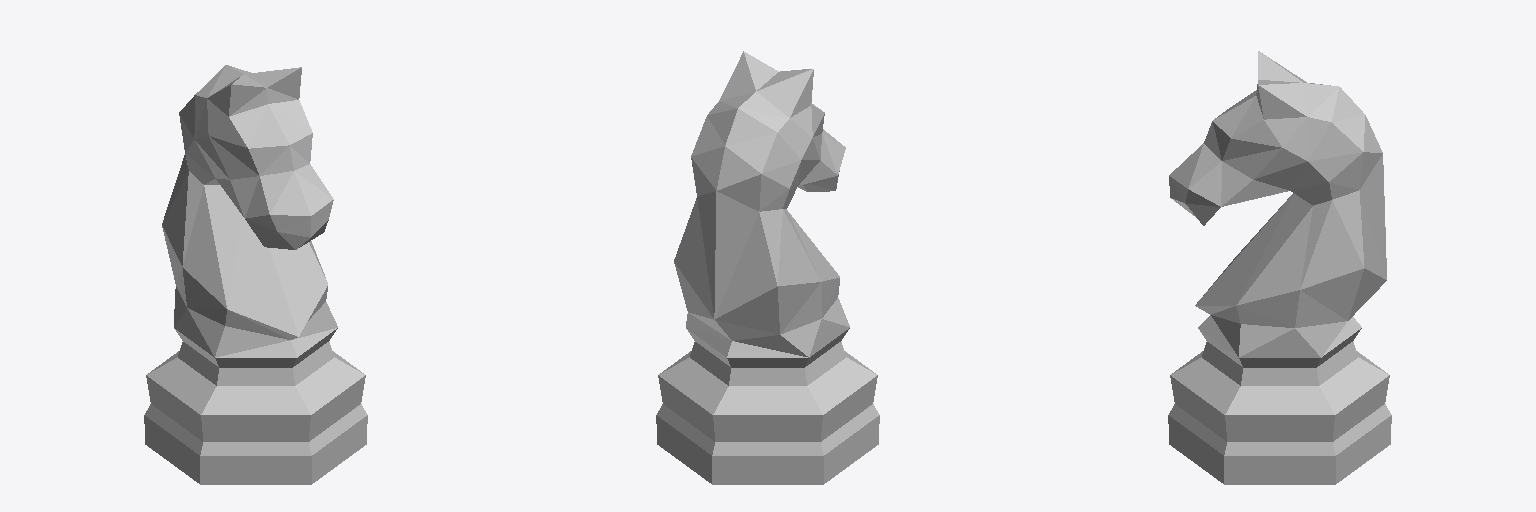
The model's file is knight.obj.
The picture shows the model from 3 angles: view 1: azimuth 30°, elevation 25°; view 2: azimuth 150°, elevation 25°; view 3: azimuth 270°, elevation 25°; orthographic projection.
Parts seen in each view (by area): view 1: Knight; view 2: Knight; view 3: Knight.
Part boxes in pixels (bbox=[...]): Knight: bbox=[144, 65, 367, 484]; Knight: bbox=[656, 51, 879, 484]; Knight: bbox=[1168, 51, 1391, 484].
Size of the model in its own units: 0.8485 by 1.82 by 0.9797.